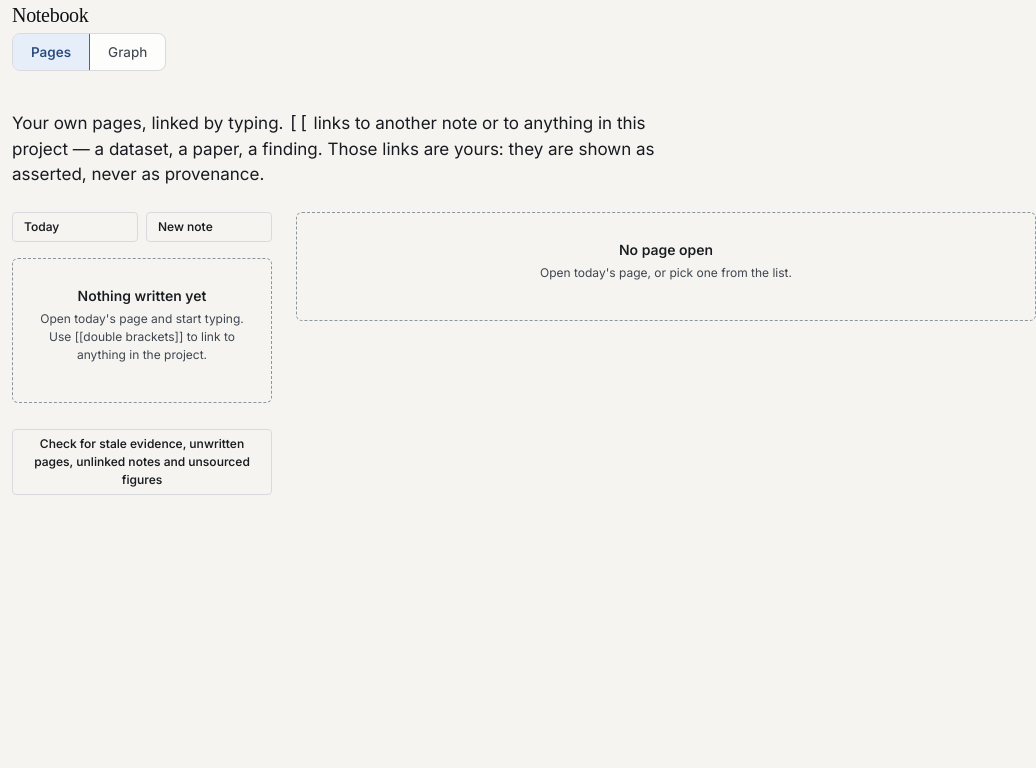
Test case: creating a note › cancels on Escape, which the native prompt did for free
The width and height of the screenshot is (1036, 768).
Click the button "New note" at (209, 226), box [146,212,272,242]
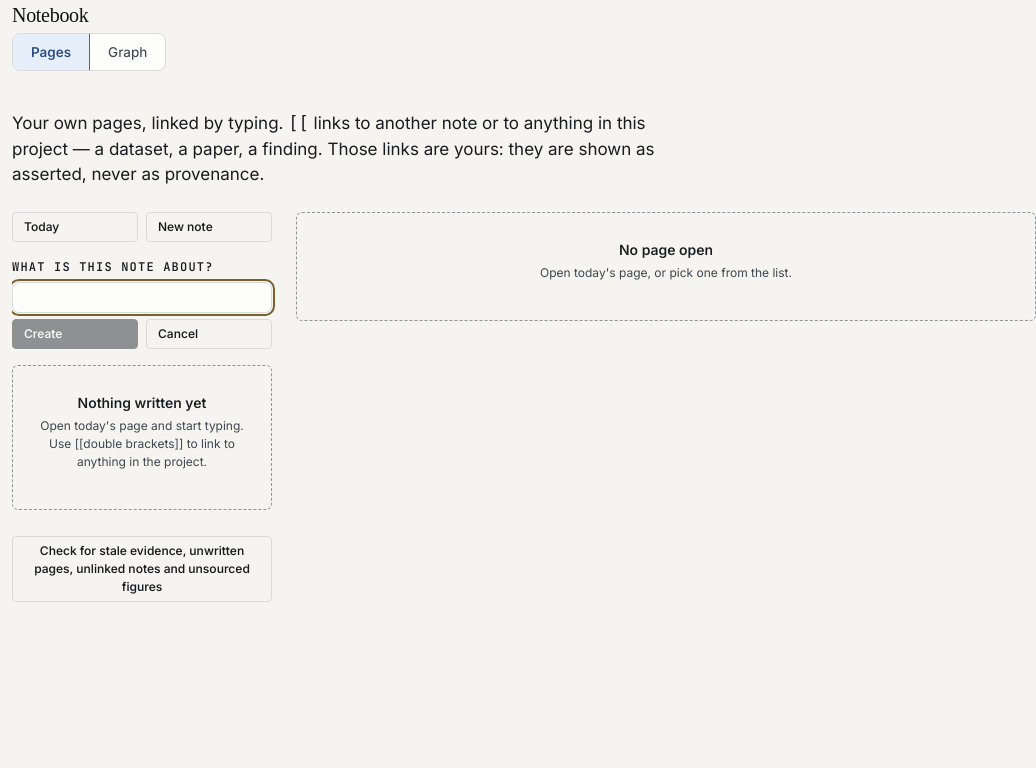
Type "Half a thought" into the field at (142, 297), box [12,282,272,312]
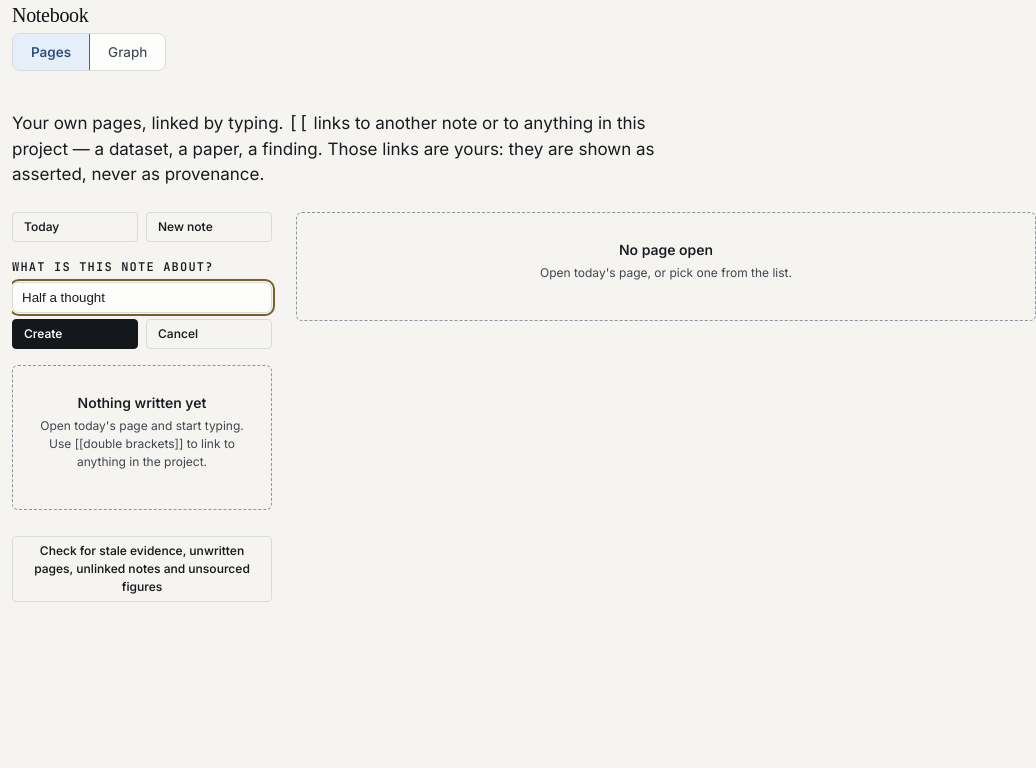
Press Escape in the field, box [12,282,272,312]
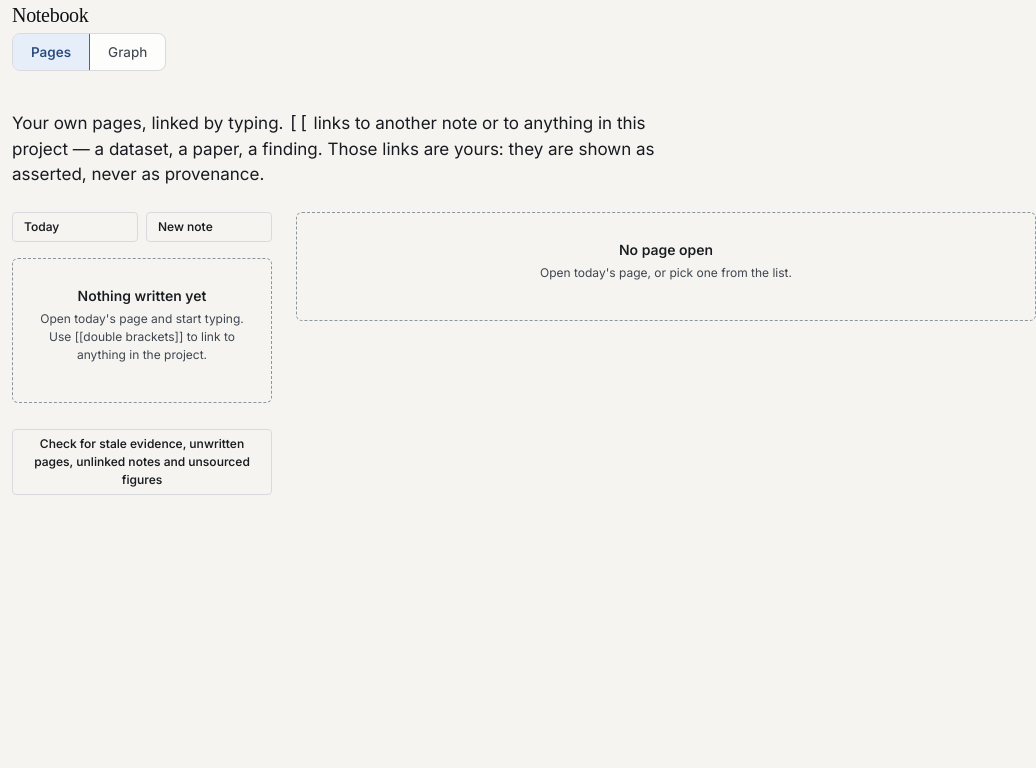
Check: the field is gone
